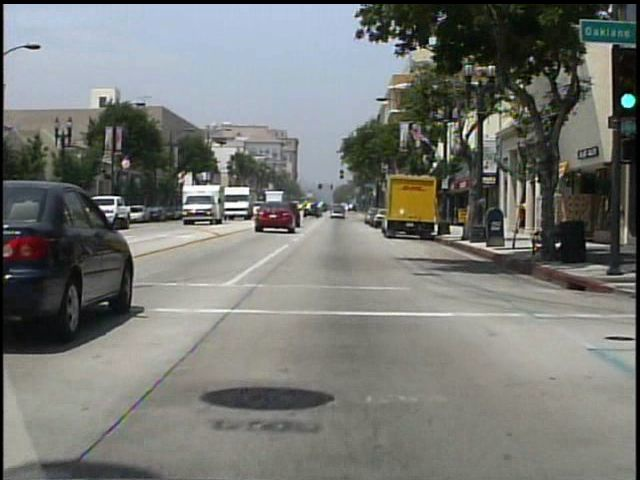person: (516, 196, 525, 235)
